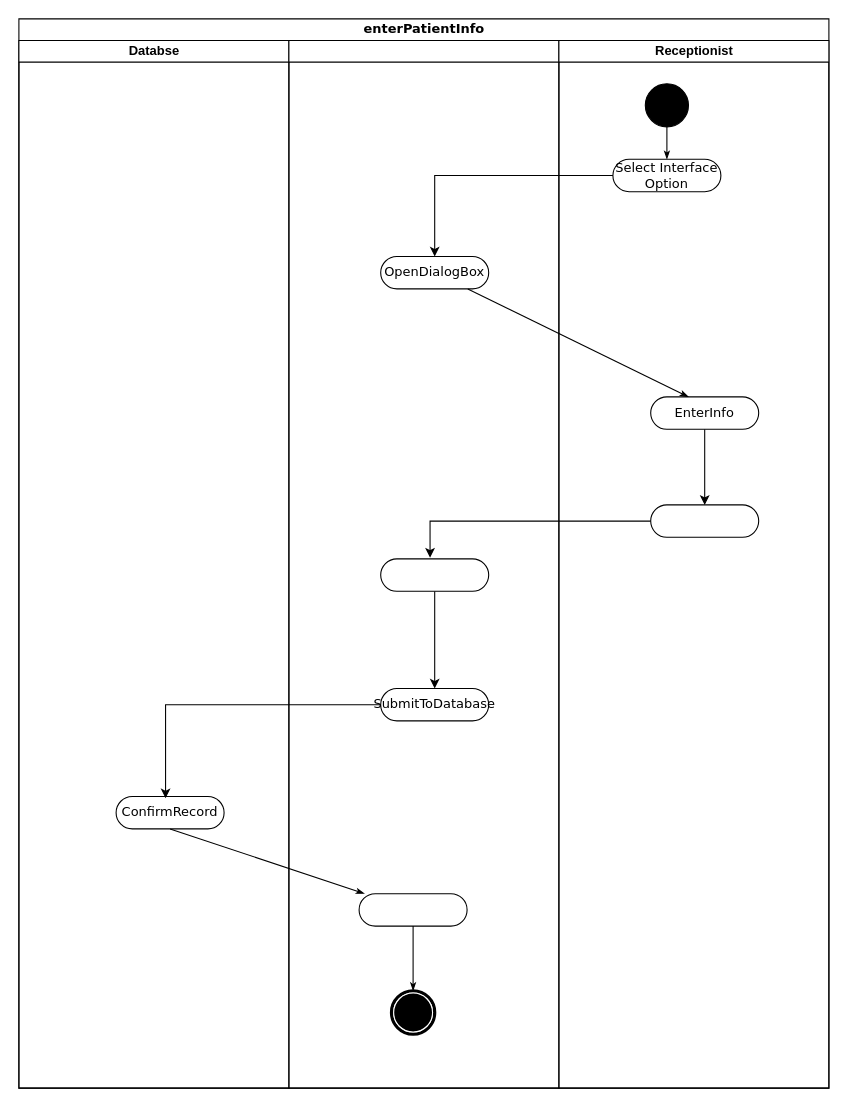
The diagram is 848 pixels wide and 1107 high, and some of its shapes have lost their labels. Each missing label, with the box of its shape:
ReceiveForm: (380, 558, 489, 591)
SendACKToReceptionist: (358, 893, 467, 926)
SubmitInfo: (650, 504, 759, 537)
System Interface: (288, 39, 559, 1088)
